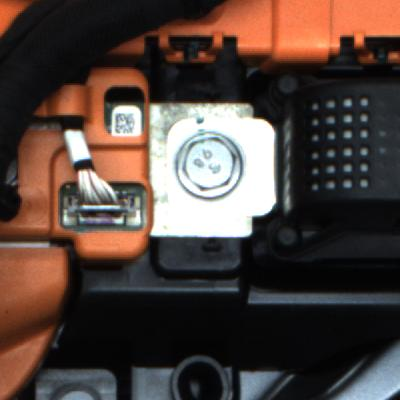nut_b: (171, 127, 247, 204)
